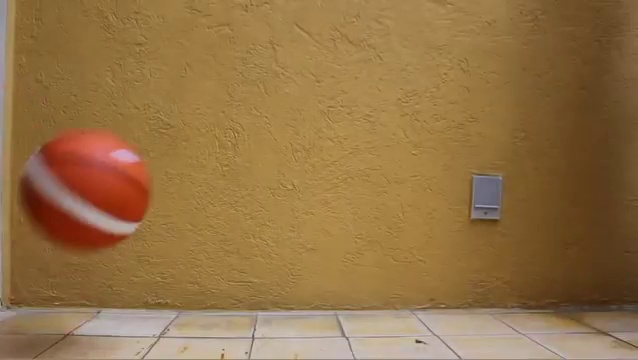ball: (18, 127, 154, 255)
